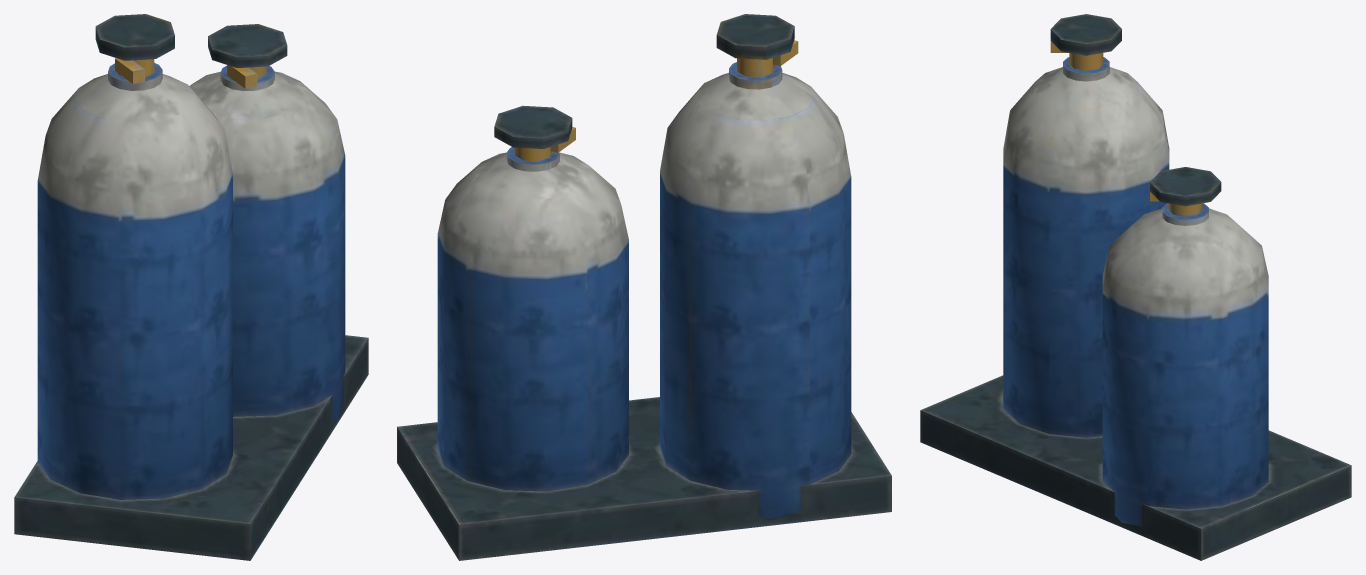
The model's file is oxygen.glb.
3 views of the same model, side by side, from view 1: azimuth 30°, elevation 25°; view 2: azimuth 150°, elevation 25°; view 3: azimuth 270°, elevation 25° (orthographic). The views are drawn at different scales.
Visible parts, largest first — view 1: te_res_oxygen; view 2: te_res_oxygen; view 3: te_res_oxygen.
Boxes of the visible parts, left/top/right/bottom form: te_res_oxygen: left=14, top=14, right=368, bottom=560; te_res_oxygen: left=397, top=14, right=891, bottom=560; te_res_oxygen: left=920, top=14, right=1351, bottom=560.
Size of the model in its own units: 0.6081 by 0.63 by 0.6081.
1 material, 1 textured.
